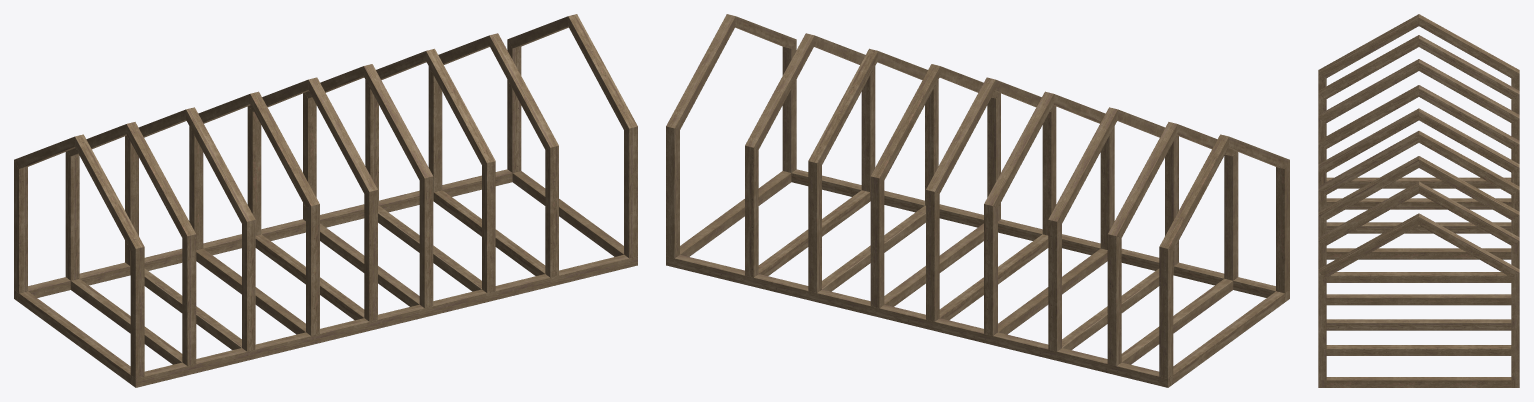
The model's file is boxKarkas0.gltf.
The picture shows the model from 3 angles, left to right: view 1: azimuth 30°, elevation 25°; view 2: azimuth 150°, elevation 25°; view 3: azimuth 270°, elevation 25°; orthographic projection. The views are drawn at different scales.
Visible parts, largest first — view 1: boxKarkas0; view 2: boxKarkas0; view 3: boxKarkas0.
Boxes of the visible parts, <box> form: boxKarkas0: <box>14,14,637,387</box>; boxKarkas0: <box>666,14,1289,387</box>; boxKarkas0: <box>1318,14,1519,387</box>.
Size of the model in its own units: 11.43 by 4.5 by 4.8.
Materials: 1 (1 with a texture image).
